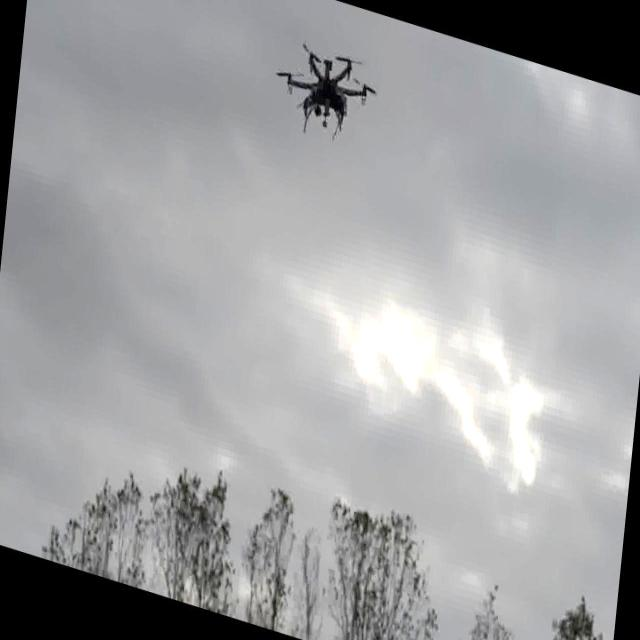drone: (270, 23, 376, 148)
